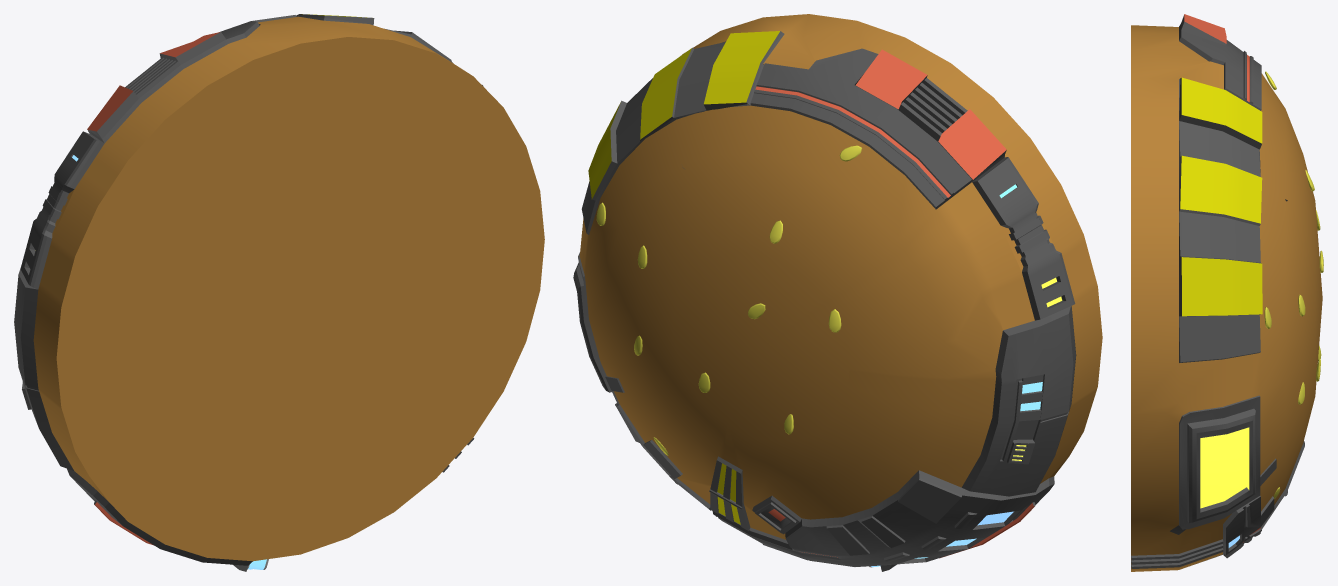
Rendered from CyberBurger TOP.fbx.
3 renders of one model, left to right at view 1: azimuth 30°, elevation 25°; view 2: azimuth 150°, elevation 25°; view 3: azimuth 270°, elevation 25°, orthographic. The views are drawn at different scales.
Parts seen in each view (by area): view 1: Burger Bread A.001; view 2: Burger Bread A.001; view 3: Burger Bread A.001.
Boxes of the visible parts, x1,y1,x2,y2 form: Burger Bread A.001: [14, 14, 544, 571]; Burger Bread A.001: [573, 14, 1102, 571]; Burger Bread A.001: [1131, 14, 1323, 571].
Size of the model in its own units: 72.86 by 74.59 by 25.48.
